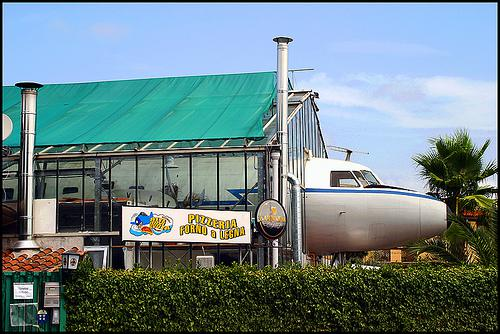Airplane: (303, 147, 456, 254)
